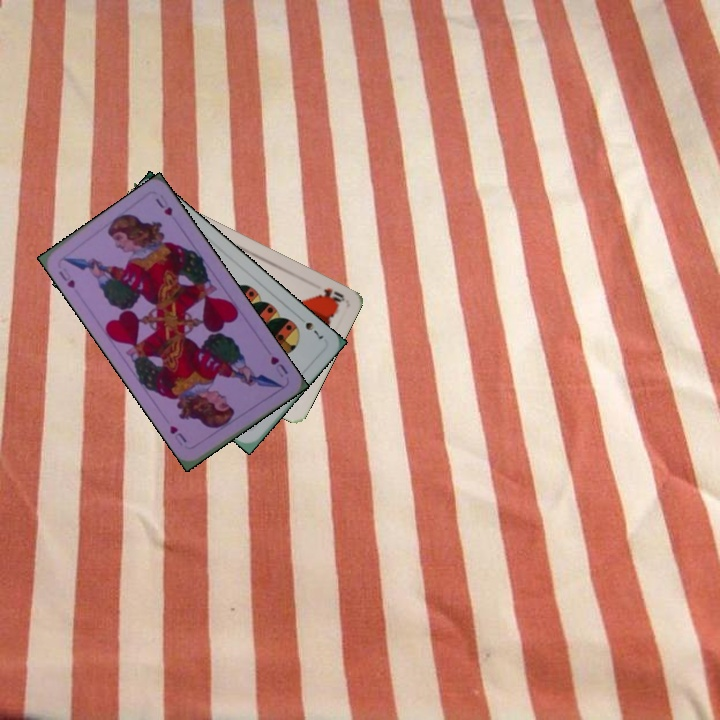HO: (315, 284, 347, 307)
HU: (266, 352, 290, 380), (54, 263, 78, 291)
S7: (301, 318, 327, 342)
